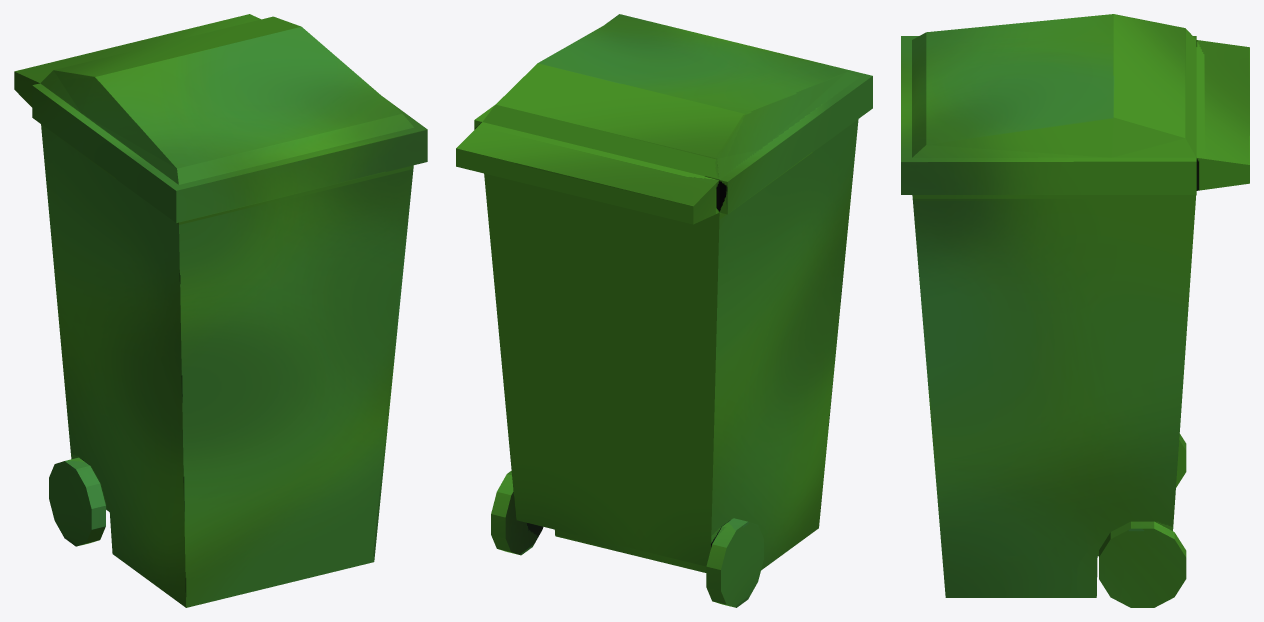
File: bin.dae
3 renders of one model, left to right at view 1: azimuth 30°, elevation 25°; view 2: azimuth 150°, elevation 25°; view 3: azimuth 270°, elevation 25°, orthographic. The views are drawn at different scales.
Visible parts, largest first — view 1: V 2; view 2: V 2; view 3: V 2.
Boxes of the visible parts, x1,y1,x2,y2 form: V 2: [14, 14, 427, 607]; V 2: [456, 14, 872, 607]; V 2: [901, 14, 1249, 607].
Bounding box in the file's own units: 0.6996 × 0.8191 × 1.26.
1 material, 1 textured.
